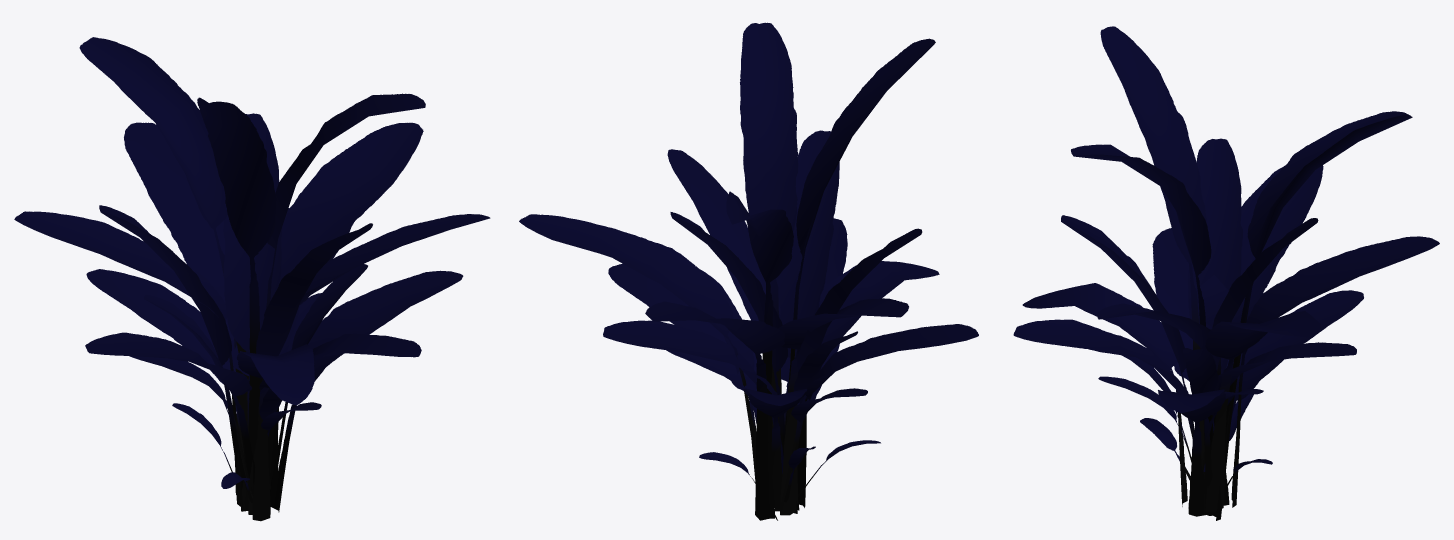
The model's file is SM_Foliage_PalmPlantA_04.fbx.
The picture shows the model from 3 angles, left to right: view 1: azimuth 30°, elevation 25°; view 2: azimuth 150°, elevation 25°; view 3: azimuth 270°, elevation 25°; orthographic projection. The views are drawn at different scales.
Visible parts, largest first — view 1: SM_Foliage_PalmPlantA_04; view 2: SM_Foliage_PalmPlantA_04; view 3: SM_Foliage_PalmPlantA_04.
Boxes of the visible parts, bbox=[...] form: SM_Foliage_PalmPlantA_04: bbox=[14, 37, 490, 521]; SM_Foliage_PalmPlantA_04: bbox=[519, 22, 978, 520]; SM_Foliage_PalmPlantA_04: bbox=[1013, 26, 1439, 520].
Bounding box in the file's own units: 434 × 426 × 492.
